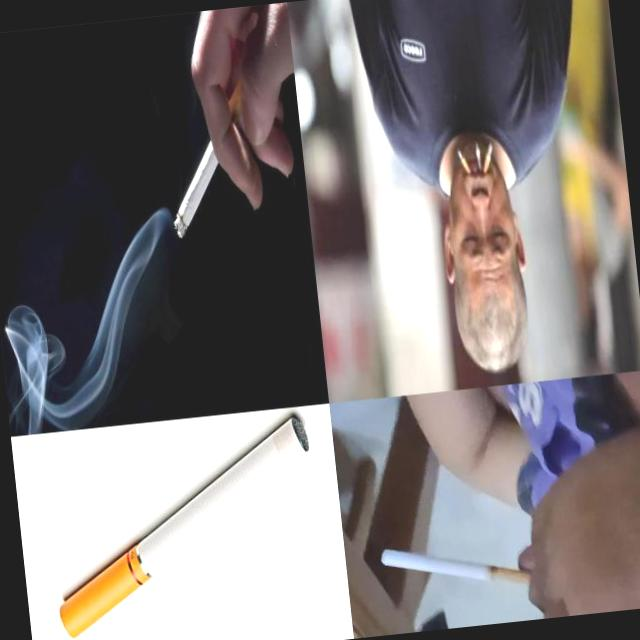cigarette: (40, 412, 328, 640), (157, 64, 270, 240), (377, 532, 534, 600), (480, 141, 496, 173), (455, 146, 471, 176), (475, 142, 482, 172)
